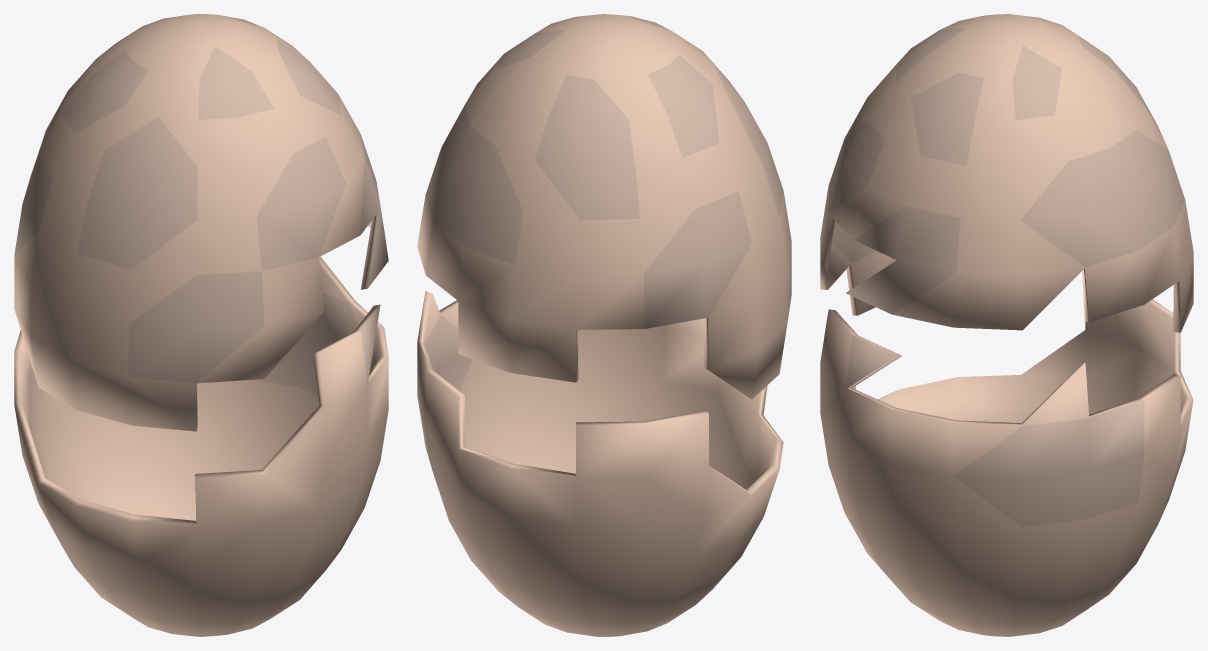
The model's file is Egg_Broken.fbx.
3 views of the same model, side by side, from view 1: azimuth 30°, elevation 25°; view 2: azimuth 150°, elevation 25°; view 3: azimuth 270°, elevation 25° (orthographic).
Visible parts, largest first — view 1: Sphere.004, Sphere.005; view 2: Sphere.004, Sphere.005; view 3: Sphere.004, Sphere.005.
Boxes of the visible parts, bbox=[...] form: Sphere.004: bbox=[14, 14, 388, 431]; Sphere.005: bbox=[14, 256, 388, 636]; Sphere.004: bbox=[417, 14, 791, 399]; Sphere.005: bbox=[417, 291, 783, 636]; Sphere.004: bbox=[820, 14, 1193, 332]; Sphere.005: bbox=[820, 299, 1193, 636].
Bounding box in the file's own units: 42.87 × 75.88 × 42.69.
